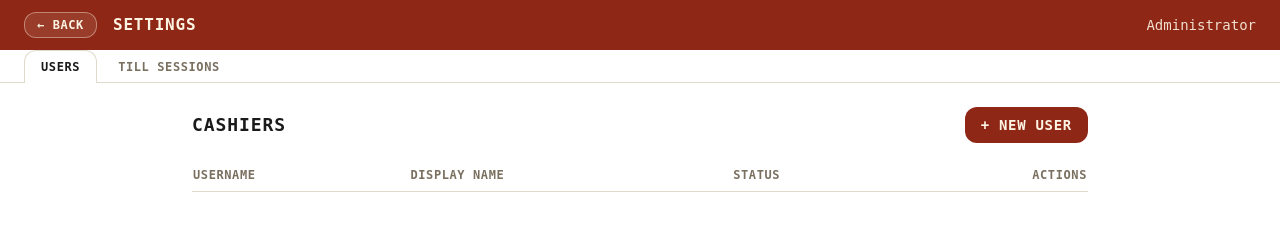
Test: <SettingsScreen> › switches to the till-sessions tab and renders the listing
Click the button "Till Sessions". click: (169, 66)
box: 101,50 -> 237,83
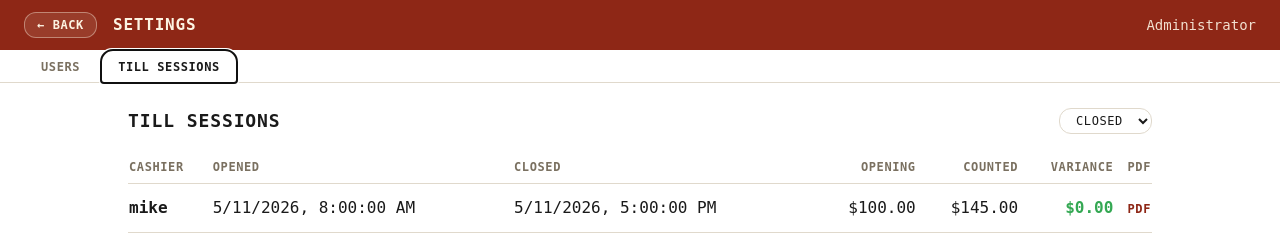
Expected: the table with test id "sessions-tbody" is shown, 128,184 -> 1152,232
Expected: the text "mike" is shown, 128,184 -> 212,232
